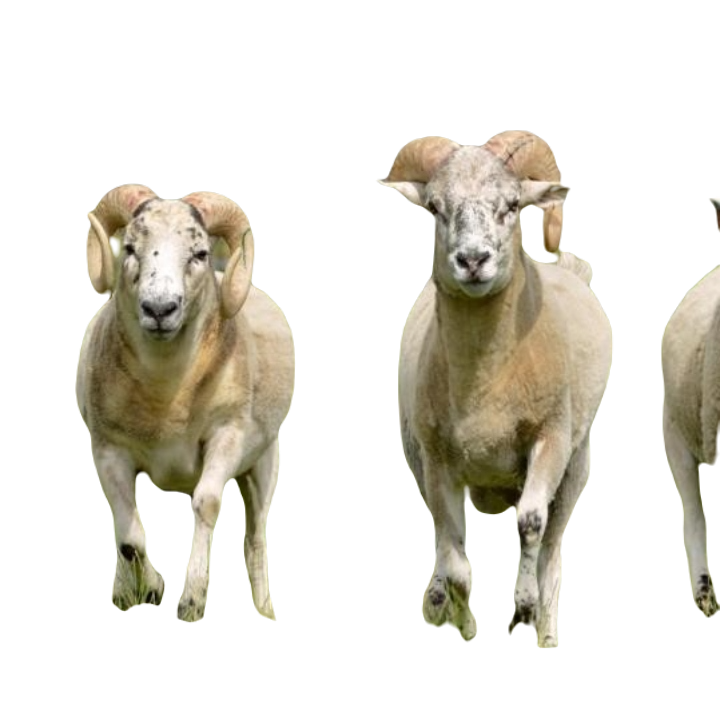Sheep: (374, 126, 617, 649), (66, 177, 305, 627)
